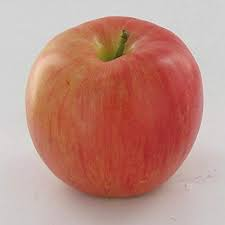apple: (27, 16, 204, 203)
